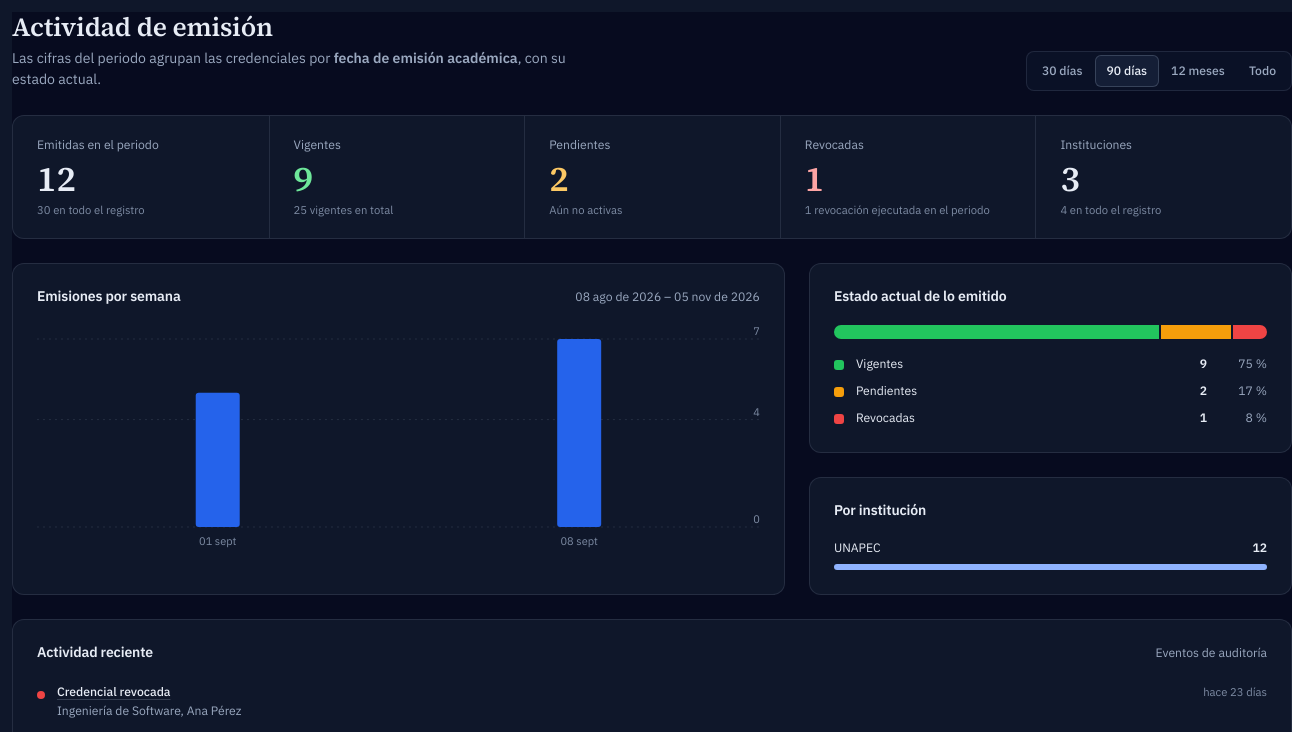
Scenario: dashboard › renders real figures and changes every block when the range changes
expect the text "12" below "Emitidas en el periodo" is shown: met, box [37, 154, 76, 203]
expect the text "UNAPEC" is shown: met, box [834, 539, 881, 558]
Step 1. Click the radio button labelled "30 días" → coordinates (1062, 71), box [1030, 55, 1094, 87]
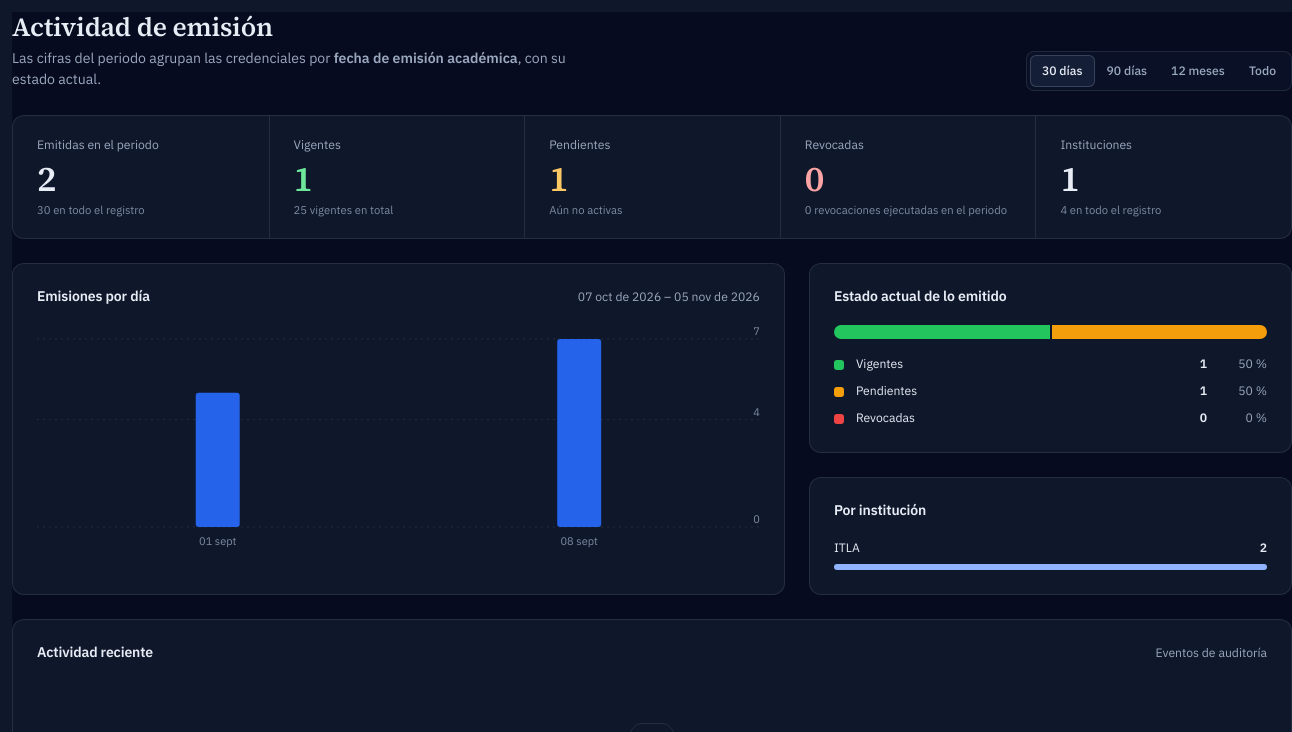
expect the text "2" below "Emitidas en el periodo" is shown: met, box [37, 154, 56, 203]
expect the text "ITLA" is shown: met, box [834, 539, 860, 558]
